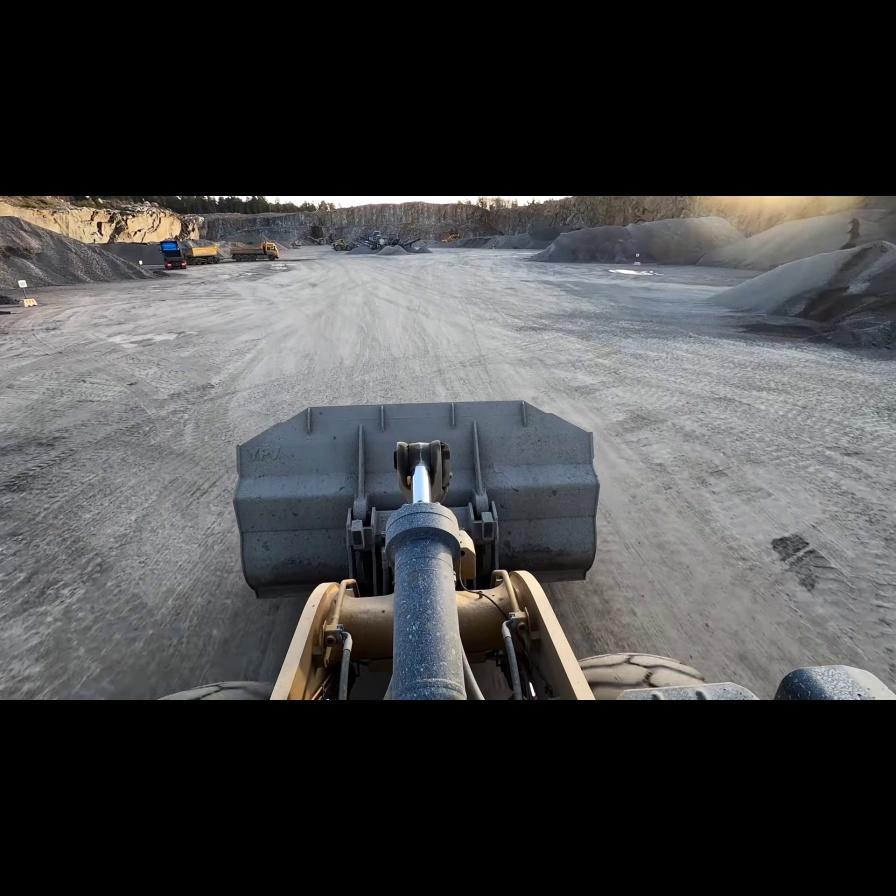anchor: (394, 440, 451, 503)
pile of gravel: (699, 241, 894, 345), (0, 213, 158, 291), (703, 209, 890, 273), (534, 216, 739, 264), (166, 240, 277, 266), (503, 222, 586, 250), (441, 235, 497, 248), (490, 233, 532, 249), (404, 242, 434, 258), (345, 243, 380, 255), (373, 245, 410, 256)
